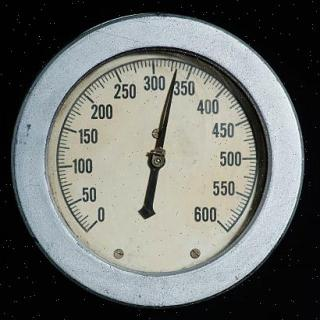gauge: (22, 34, 293, 288), (81, 204, 111, 238), (204, 210, 232, 233), (146, 149, 167, 170), (170, 62, 180, 76)
